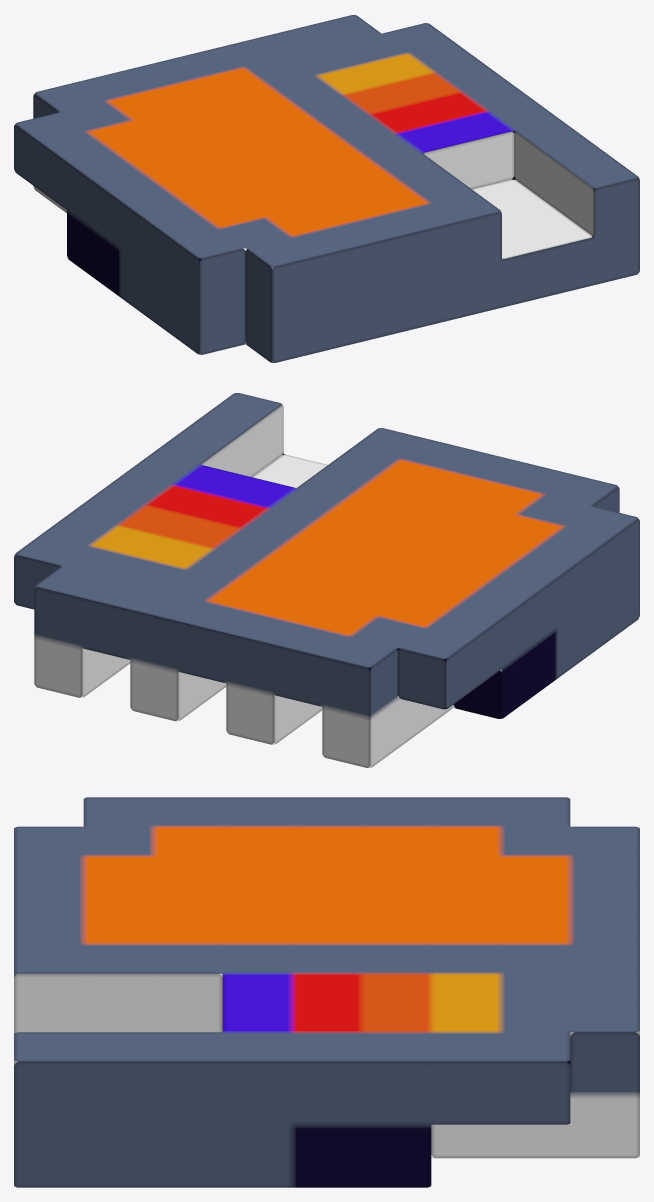
The model's file is cartridge_v01.obj.
3 renders of one model, top to bottom at view 1: azimuth 30°, elevation 25°; view 2: azimuth 150°, elevation 25°; view 3: azimuth 270°, elevation 25°, orthographic. The views are drawn at different scales.
Parts seen in each view (by area): view 1: Cartridge; view 2: Cartridge; view 3: Cartridge.
Boxes of the visible parts, <box> form: Cartridge: <box>14,15,639,362</box>; Cartridge: <box>14,393,639,767</box>; Cartridge: <box>14,797,639,1187</box>.
Bounding box in the file's own units: 0.5625 × 0.125 × 0.5625.
1 material, 1 textured.
